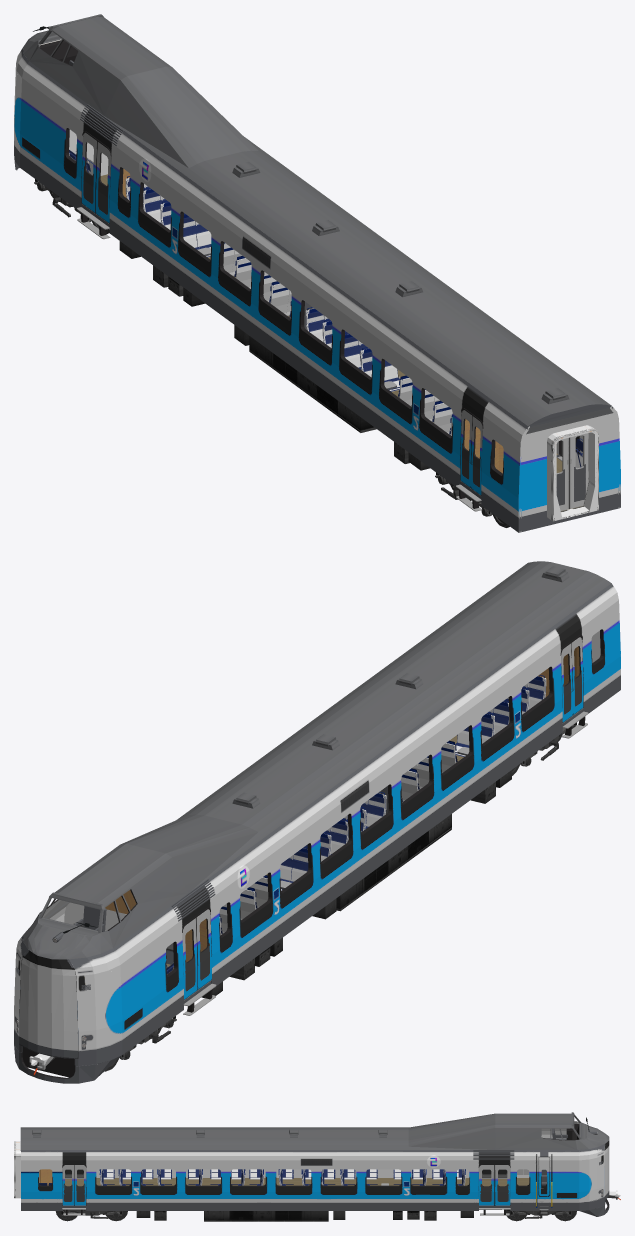
Rendered from nsicmmfront_back.obj.
3 renders of one model, top to bottom at view 1: azimuth 30°, elevation 25°; view 2: azimuth 150°, elevation 25°; view 3: azimuth 270°, elevation 25°, orthographic. The views are drawn at different scales.
Parts seen in each view (by area): view 1: side, jibung, chair_second, backout, habu, mak, jibungparts, backdoor, door_RB, door_RF, sadari, DT71 (+1 smaller); view 2: side, jibung, chair_second, front, side_front, habu, jibungparts, door_RF, door_RB, frontparts, sadari, backin (+2 smaller); view 3: side, jibung, chair_second, habu, badak, side_front, DT71, door_LB, door_LF, inside, jibungparts, sadari (+6 smaller).
Part boxes in pixels (<box>): side: <box>20,61,620,532</box>; jibung: <box>23,16,611,425</box>; chair_second: <box>125,176,452,435</box>; backout: <box>522,404,617,531</box>; habu: <box>109,229,429,470</box>; mak: <box>547,425,598,521</box>; jibungparts: <box>80,104,569,404</box>; backdoor: <box>556,433,588,510</box>; door_RB: <box>81,132,472,487</box>; door_RF: <box>95,141,482,495</box>; sadari: <box>77,131,576,511</box>; DT71: <box>34,179,509,527</box>; side: <box>45,583,620,1054</box>; jibung: <box>23,561,611,959</box>; chair_second: <box>219,675,546,935</box>; front: <box>19,949,78,1065</box>; side_front: <box>14,928,122,1065</box>; habu: <box>22,770,511,1077</box>; jibungparts: <box>171,566,569,921</box>; door_RF: <box>196,637,583,989</box>; door_RB: <box>182,643,572,999</box>; frontparts: <box>14,922,121,1083</box>; sadari: <box>182,635,588,1015</box>; backin: <box>64,630,600,931</box>; side: <box>21,1128,579,1210</box>; jibung: <box>20,1113,609,1149</box>; chair_second: <box>99,1169,465,1185</box>; habu: <box>136,1209,501,1221</box>; badak: <box>65,1178,529,1186</box>; side_front: <box>579,1144,604,1210</box>; DT71: <box>55,1208,576,1221</box>; door_LB: <box>74,1164,510,1205</box>; door_LF: <box>62,1164,494,1205</box>; inside: <box>96,1134,566,1177</box>; jibungparts: <box>32,1129,514,1159</box>; sadari: <box>62,1164,510,1215</box>.
Size of the model in its own units: 3.17 by 4.52 by 26.18.
Materials: 34 (33 with a texture image).
